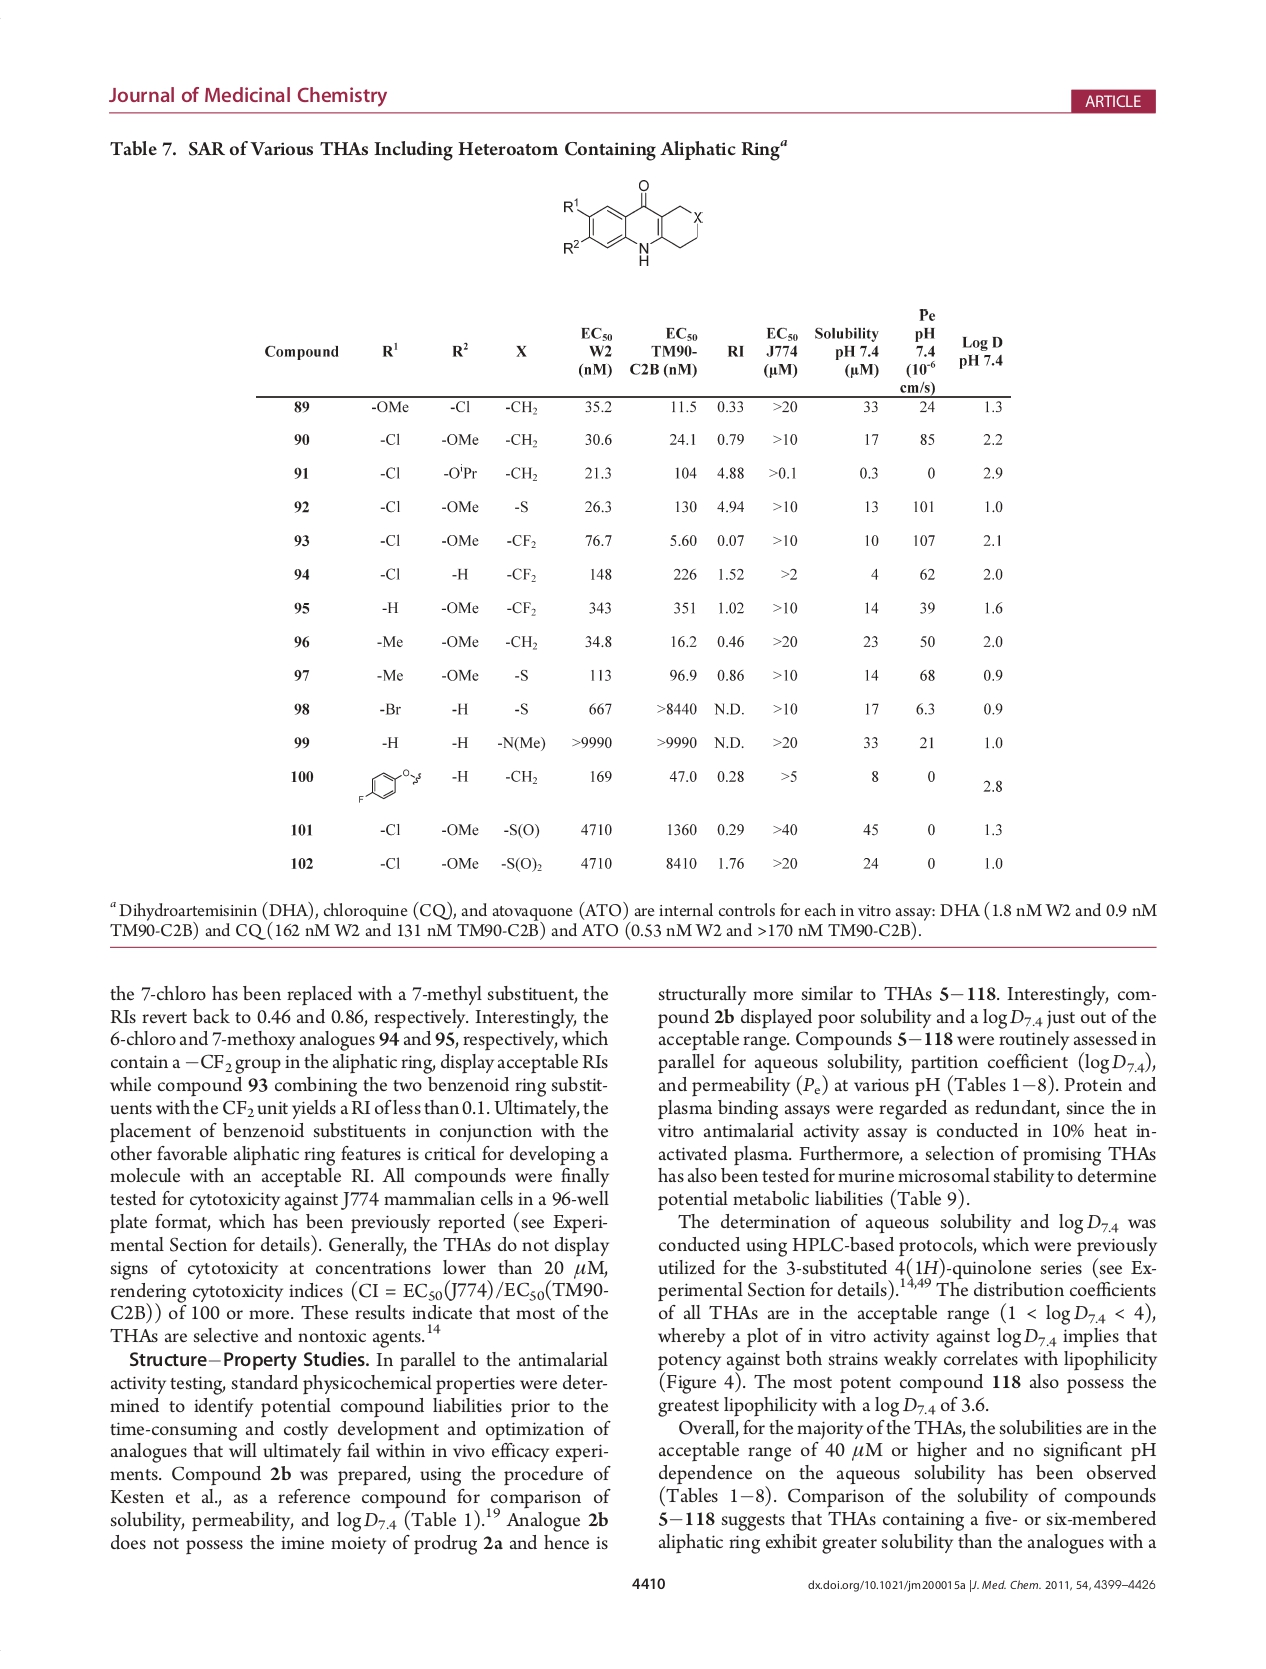exist_molecular: (557, 174, 703, 269), (355, 763, 422, 803)
